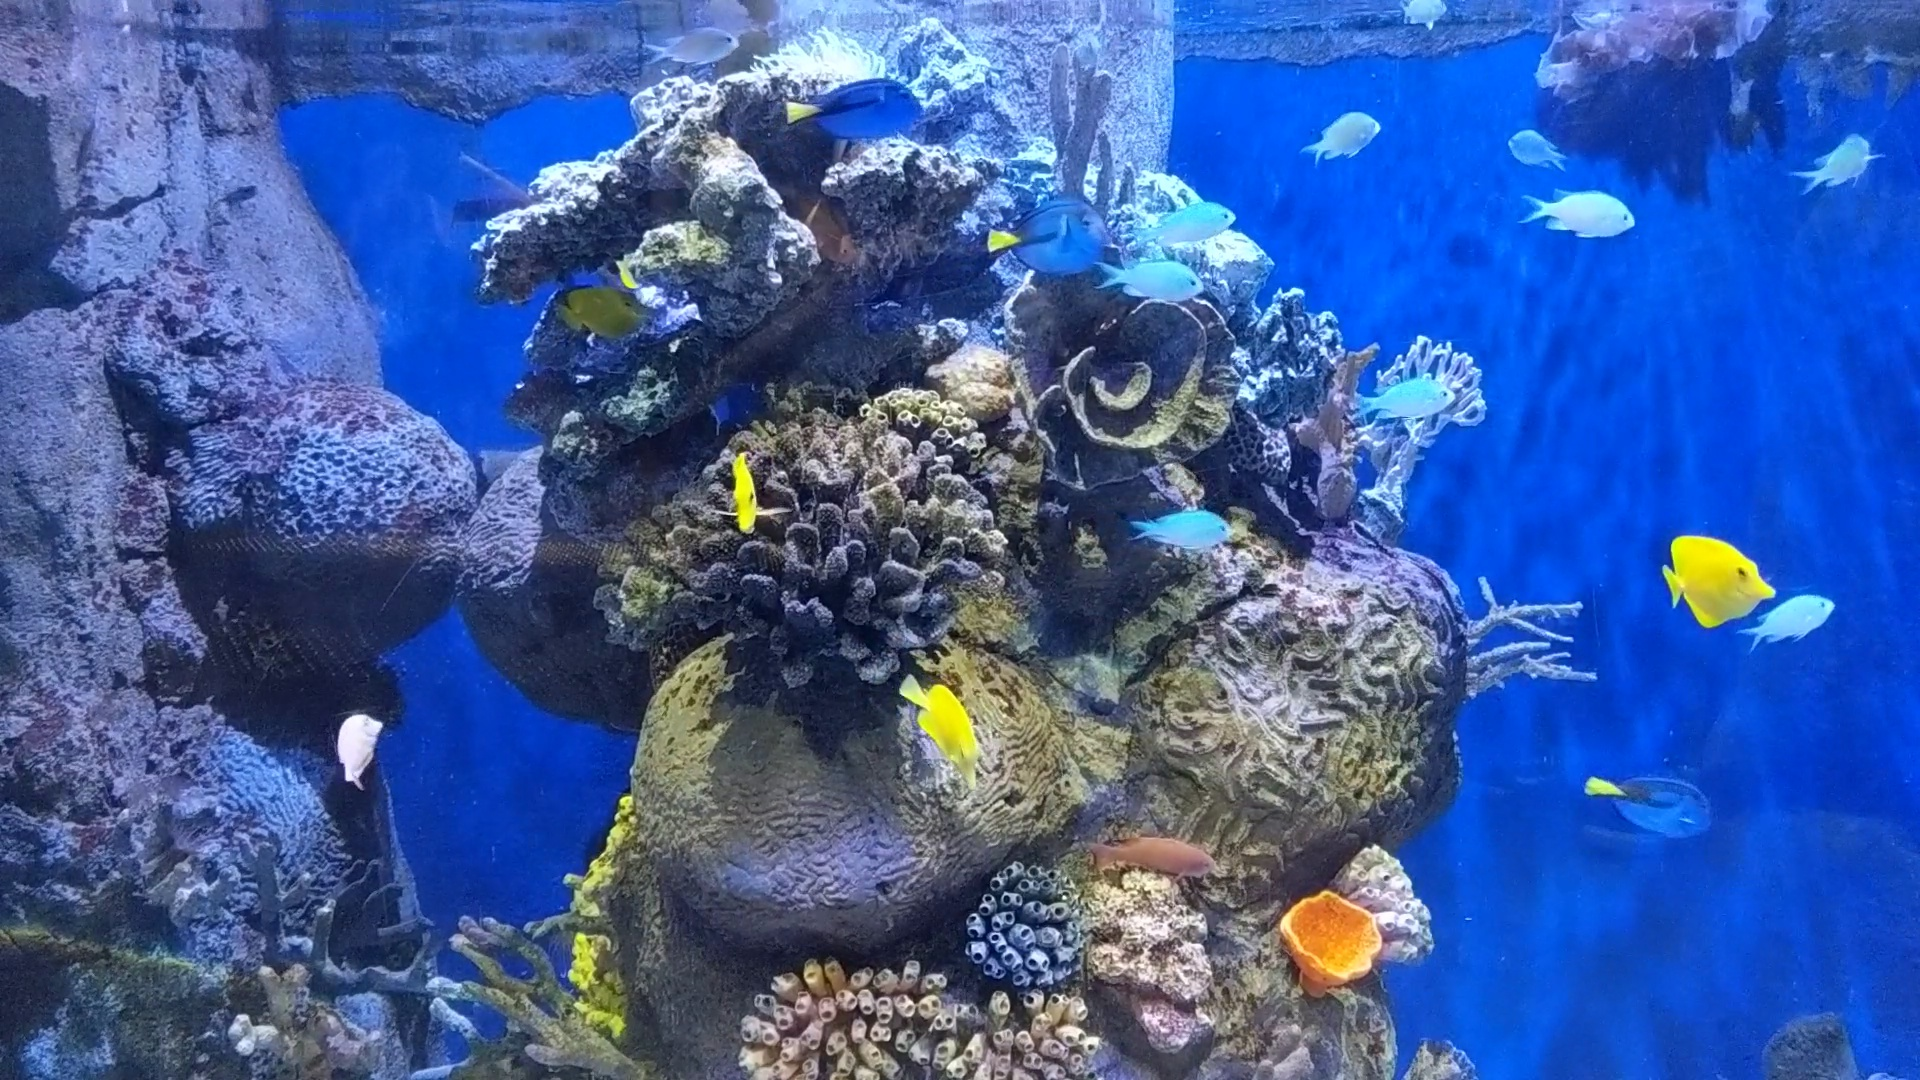blue tang surgeonfish: (981, 191, 1118, 280), (1576, 764, 1720, 841), (781, 74, 928, 137)
damselfish: (1793, 127, 1886, 193), (1735, 589, 1840, 647), (1348, 376, 1455, 429), (637, 18, 741, 71), (1127, 502, 1240, 551), (1101, 262, 1209, 305), (1137, 202, 1238, 244), (1304, 113, 1385, 164), (1062, 30, 1118, 98), (1501, 121, 1564, 173), (1393, 0, 1458, 36)
saddle butterfly fish: (902, 669, 984, 790), (1665, 534, 1778, 622), (553, 282, 669, 345), (724, 451, 764, 541)
